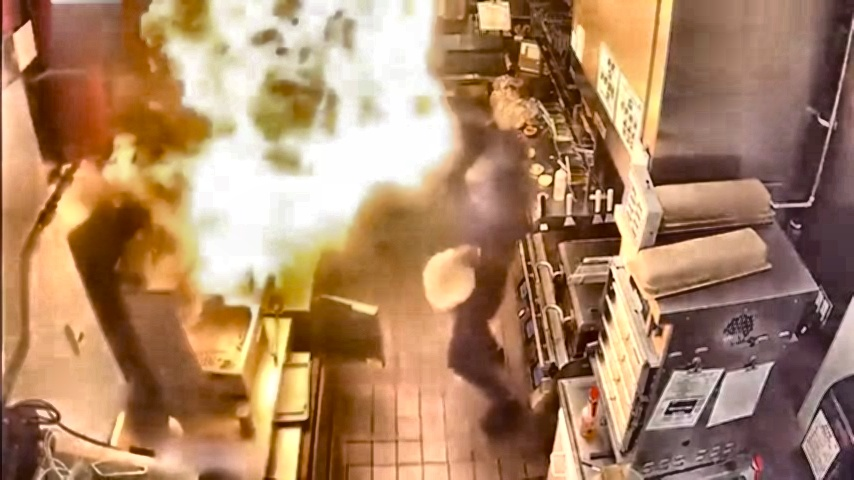fire: (102, 0, 459, 301)
